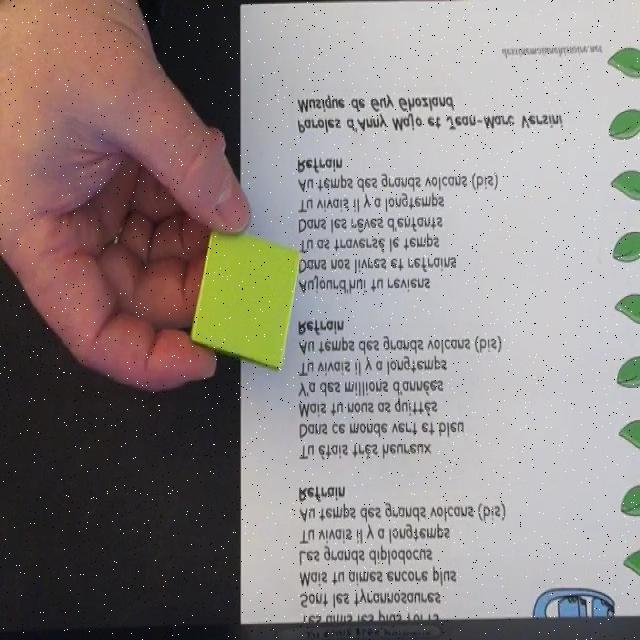square: (190, 226, 300, 371)
